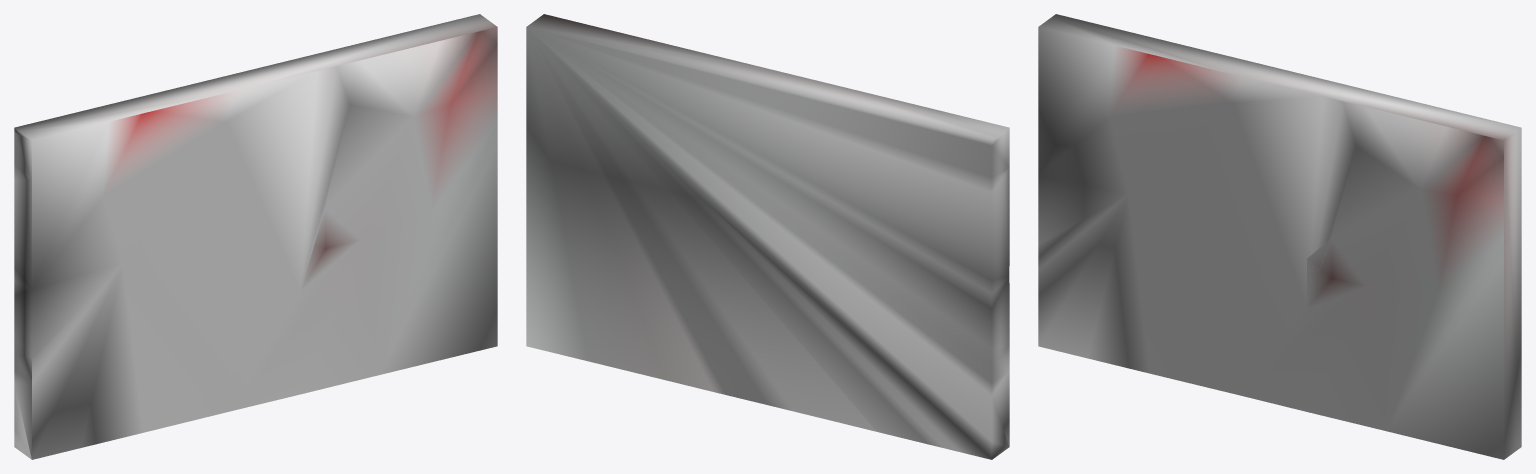
Rendered from SM_FA_Factory_W305_H200.fbx.
The picture shows the model from 3 angles, left to right: view 1: azimuth 30°, elevation 25°; view 2: azimuth 150°, elevation 25°; view 3: azimuth 330°, elevation 25°; orthographic projection.
Visible parts, largest first — view 1: SM_FA_Factory_W305_H200; view 2: SM_FA_Factory_W305_H200; view 3: SM_FA_Factory_W305_H200.
Boxes of the visible parts, x1,y1,x2,y2 form: SM_FA_Factory_W305_H200: [14, 14, 497, 459]; SM_FA_Factory_W305_H200: [526, 14, 1009, 459]; SM_FA_Factory_W305_H200: [1038, 14, 1521, 459].
Size of the model in its own units: 305 by 20 by 200.
